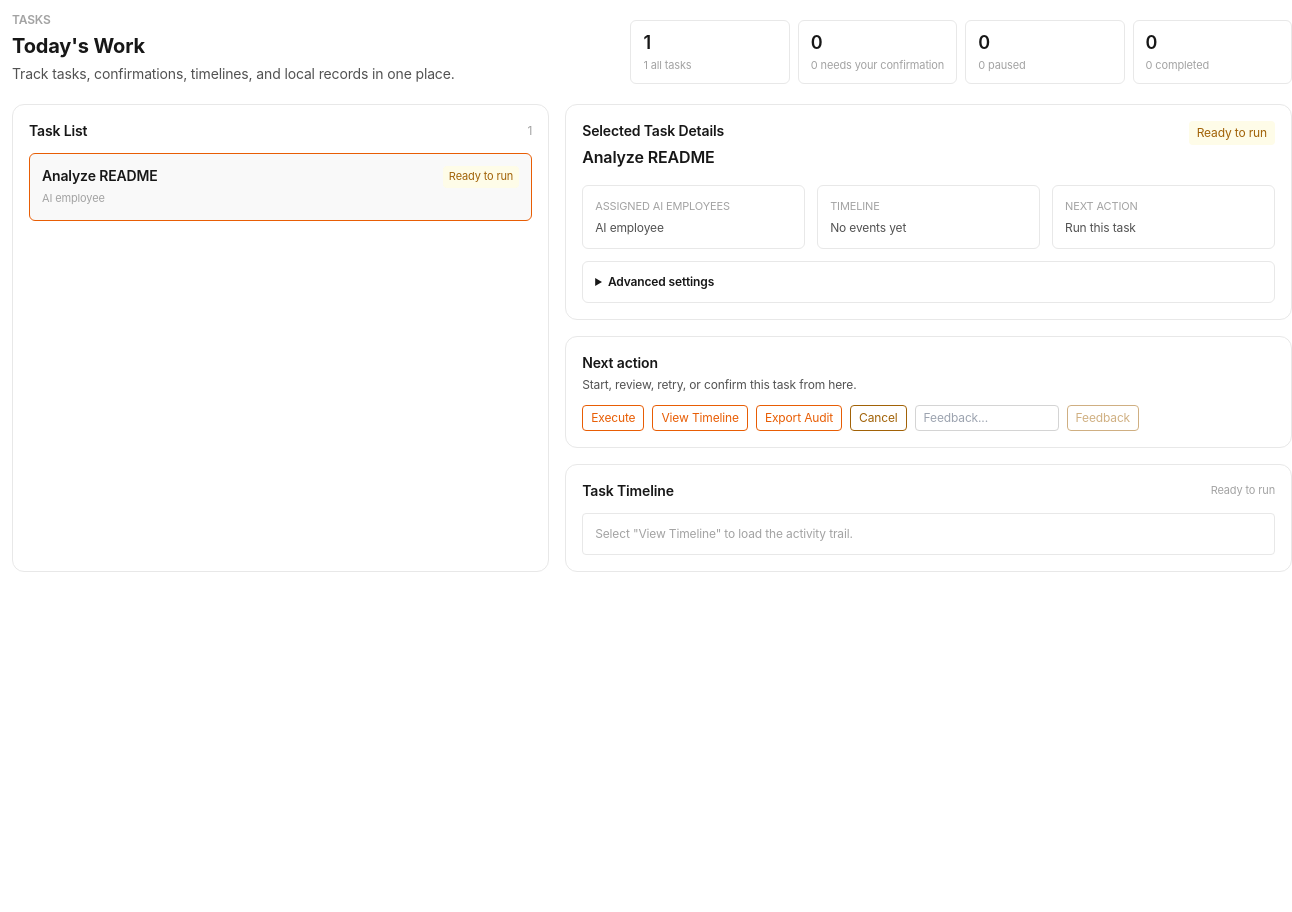
Scenario: WorkOrders › renders timeline loading errors
Step 1. Click the button "View Timeline" → (700, 418), box [652,405,748,431]
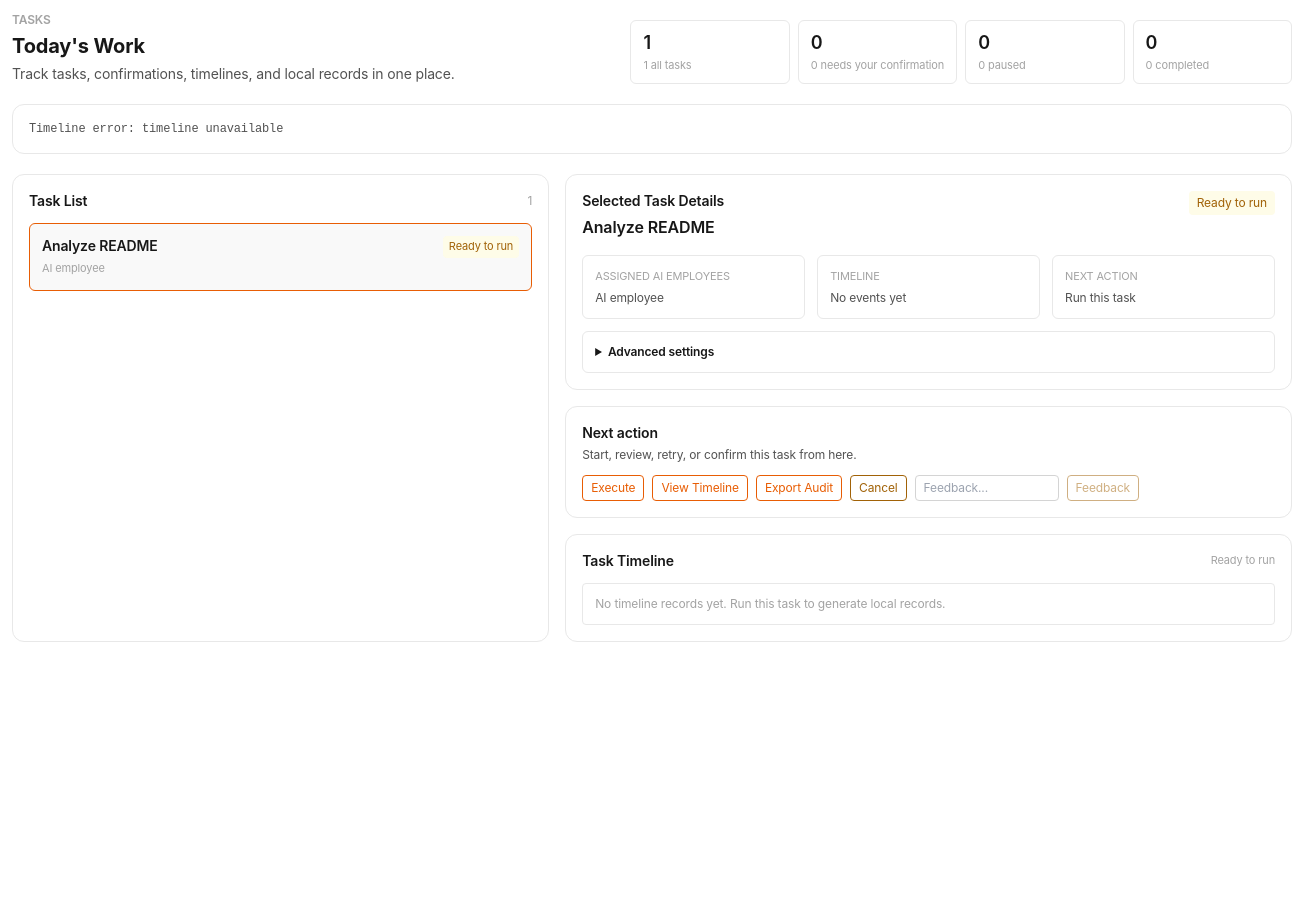
Expected: the text "Timeline error: timeline unavailable" is shown, [29,122,283,136]
